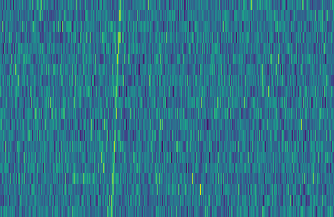signal: (106, 0, 124, 217)
